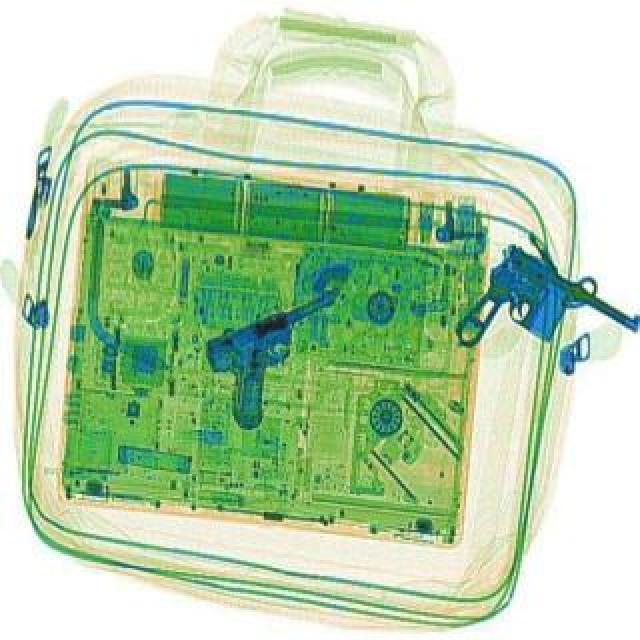gun: (442, 238, 638, 410), (196, 284, 380, 432)
